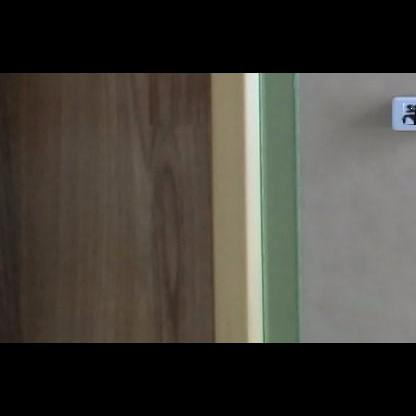4z: (403, 103, 416, 125)
